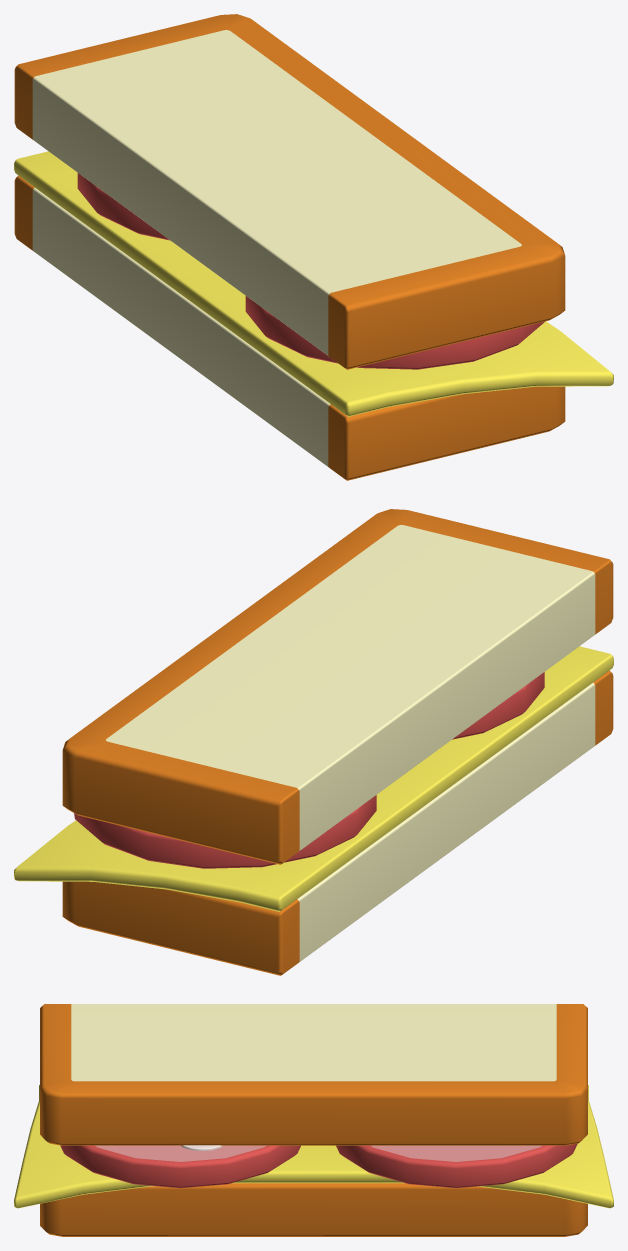
The model's file is Sandwich_Half_2.fbx.
3 views of the same model, one above another, from view 1: azimuth 30°, elevation 25°; view 2: azimuth 150°, elevation 25°; view 3: azimuth 270°, elevation 25° (orthographic). The views are drawn at different scales.
Visible parts, largest first — view 1: Sandwich_Half_2; view 2: Sandwich_Half_2; view 3: Sandwich_Half_2.
Boxes of the visible parts, x1,y1,x2,y2 form: Sandwich_Half_2: (14,14,613,480); Sandwich_Half_2: (14,509,613,975); Sandwich_Half_2: (14,1004,613,1236).
Bounding box in the file's own units: 8.02 × 4.99 × 18.8.
